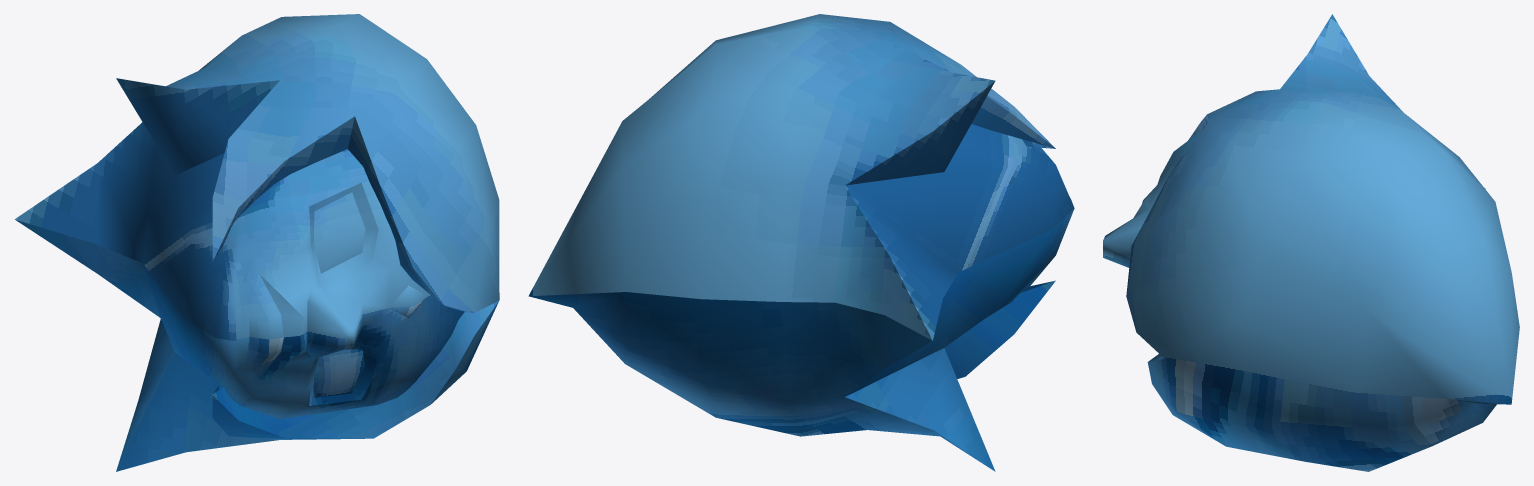
File: hlmt_Fai.dae
3 views of the same model, side by side, from view 1: azimuth 30°, elevation 25°; view 2: azimuth 150°, elevation 25°; view 3: azimuth 270°, elevation 25° (orthographic). The views are drawn at different scales.
Visible parts, largest first — view 1: hlmt_Fai; view 2: hlmt_Fai; view 3: hlmt_Fai.
Part boxes in pixels (x1,y1,x2,y2): hlmt_Fai: (15,14,499,471); hlmt_Fai: (528,14,1074,471); hlmt_Fai: (1103,14,1519,471).
Bounding box in the file's own units: 25.35 × 24.27 × 25.04.
Materials: 1 (1 with a texture image).
